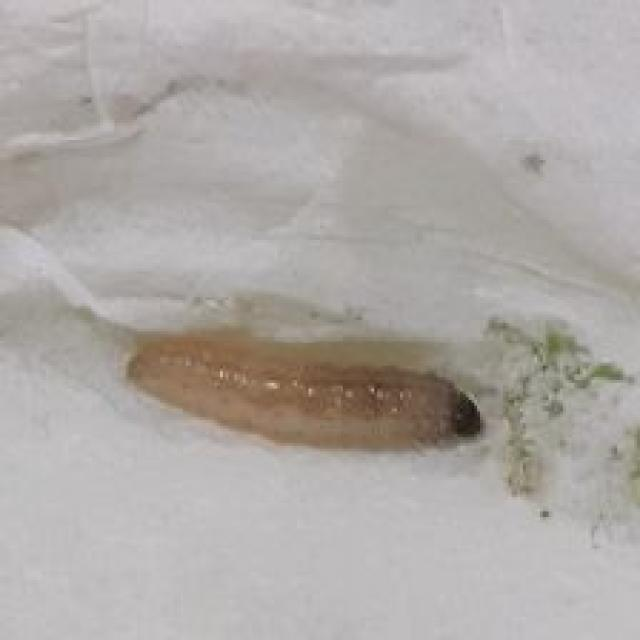white mucus: (88, 312, 499, 470)
